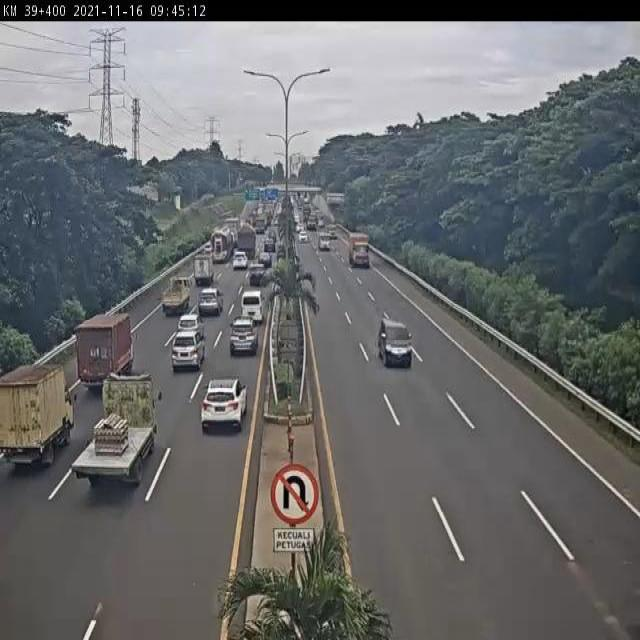car: (201, 378, 248, 430), (376, 316, 413, 368), (171, 334, 206, 369), (228, 320, 256, 360), (198, 287, 222, 316), (177, 313, 202, 339), (248, 264, 269, 288)
small bus: (241, 290, 263, 322)
small truck: (0, 363, 73, 468), (159, 276, 194, 317), (192, 253, 214, 287)
truck-m-: (75, 376, 157, 489), (77, 315, 138, 392)
